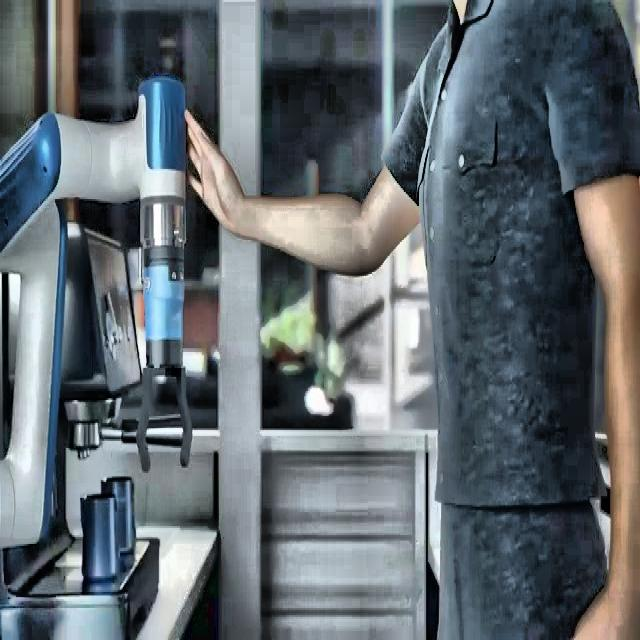human: (183, 0, 639, 638)
robot: (0, 73, 194, 635)
